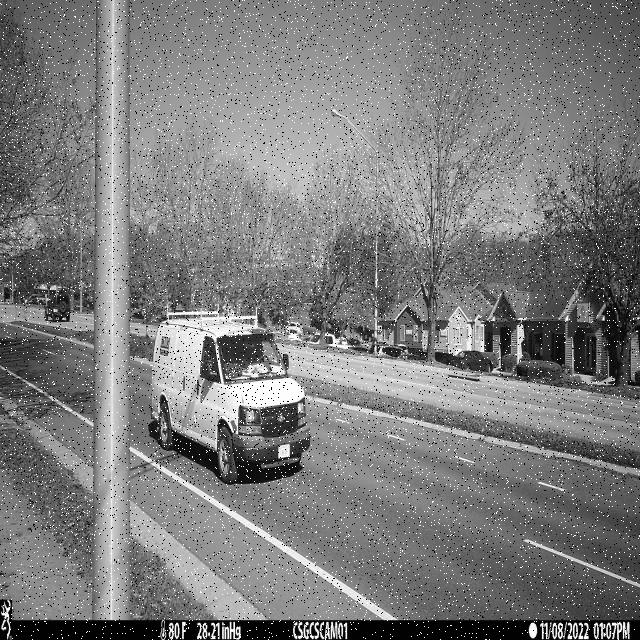Van: (151, 304, 311, 485)
